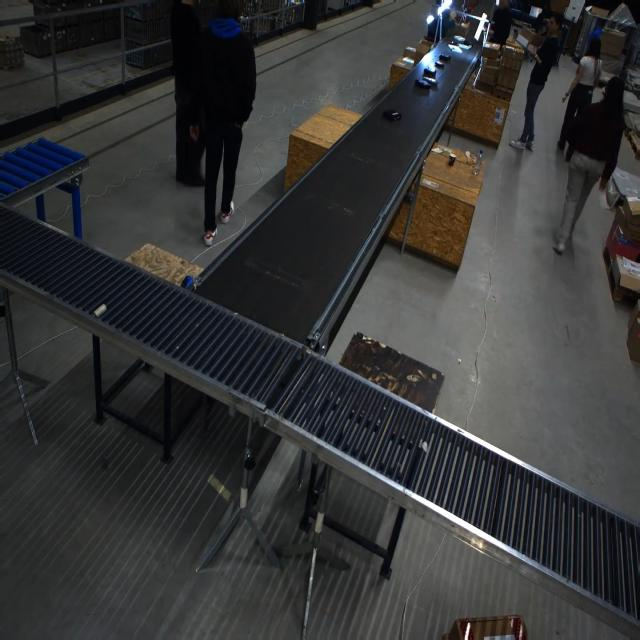product: (382, 109, 401, 122), (447, 45, 464, 57), (422, 66, 436, 79), (415, 79, 431, 89), (424, 76, 437, 86), (438, 53, 450, 62), (460, 37, 472, 46), (434, 61, 444, 67)
